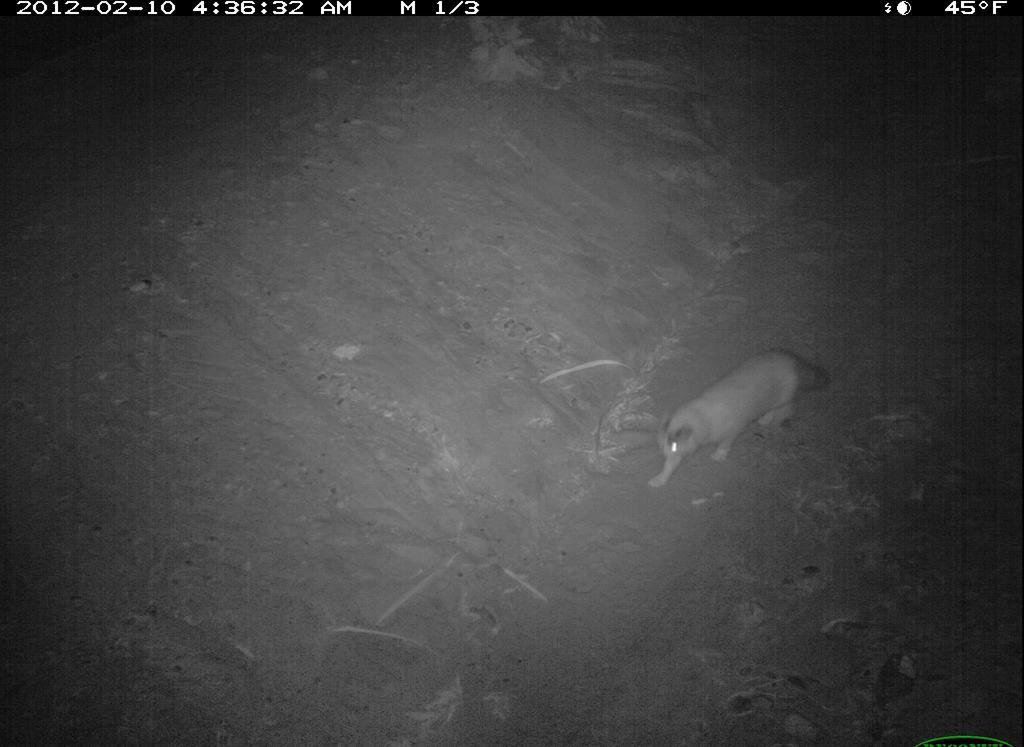cat: (643, 348, 835, 494)
